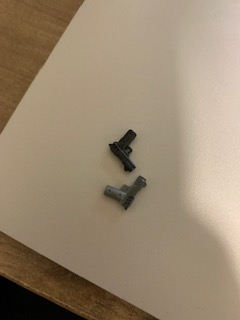pistol: (99, 175, 148, 212), (107, 127, 141, 174)
